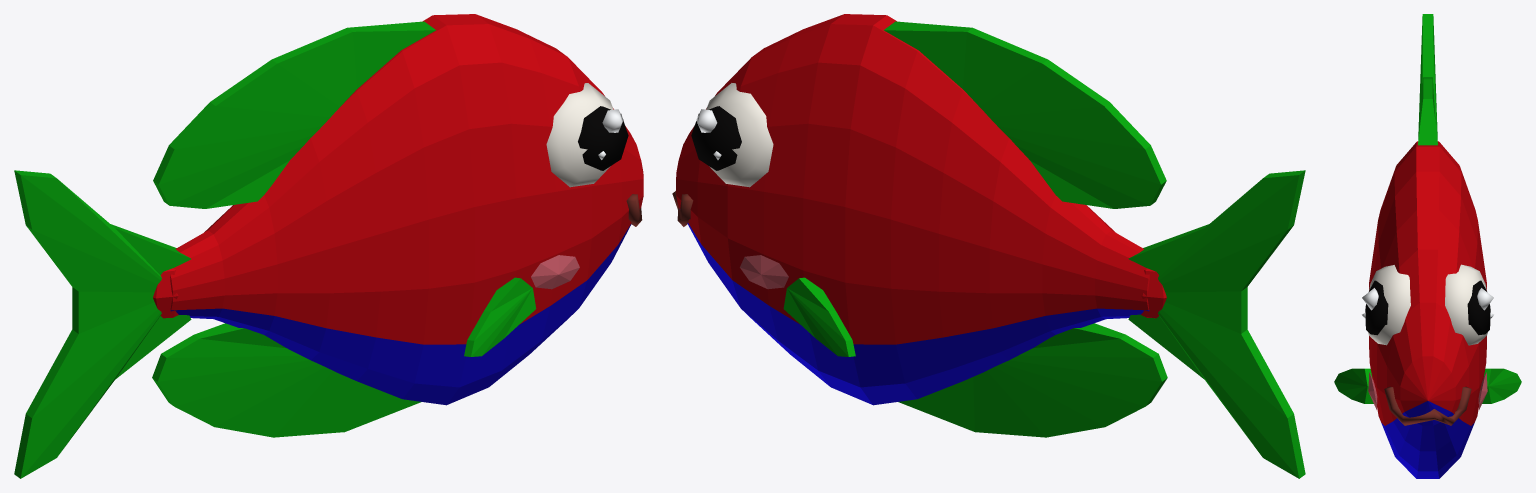
Rendered from fish-diamond.glb.
3 views of the same model, side by side, from view 1: azimuth 30°, elevation 25°; view 2: azimuth 150°, elevation 25°; view 3: azimuth 270°, elevation 25° (orthographic). The views are drawn at different scales.
Visible parts, largest first — view 1: body, tail; view 2: body, tail; view 3: body, tail.
Part boxes in pixels (x1,y1,x2,y2): body: (152,14,643,437); tail: (14,170,191,478); body: (672,14,1167,437); tail: (1128,170,1305,478); body: (1334,77,1521,478); tail: (1418,14,1437,139).
Size of the model in its own units: 0.8624 by 0.5242 by 0.265.
